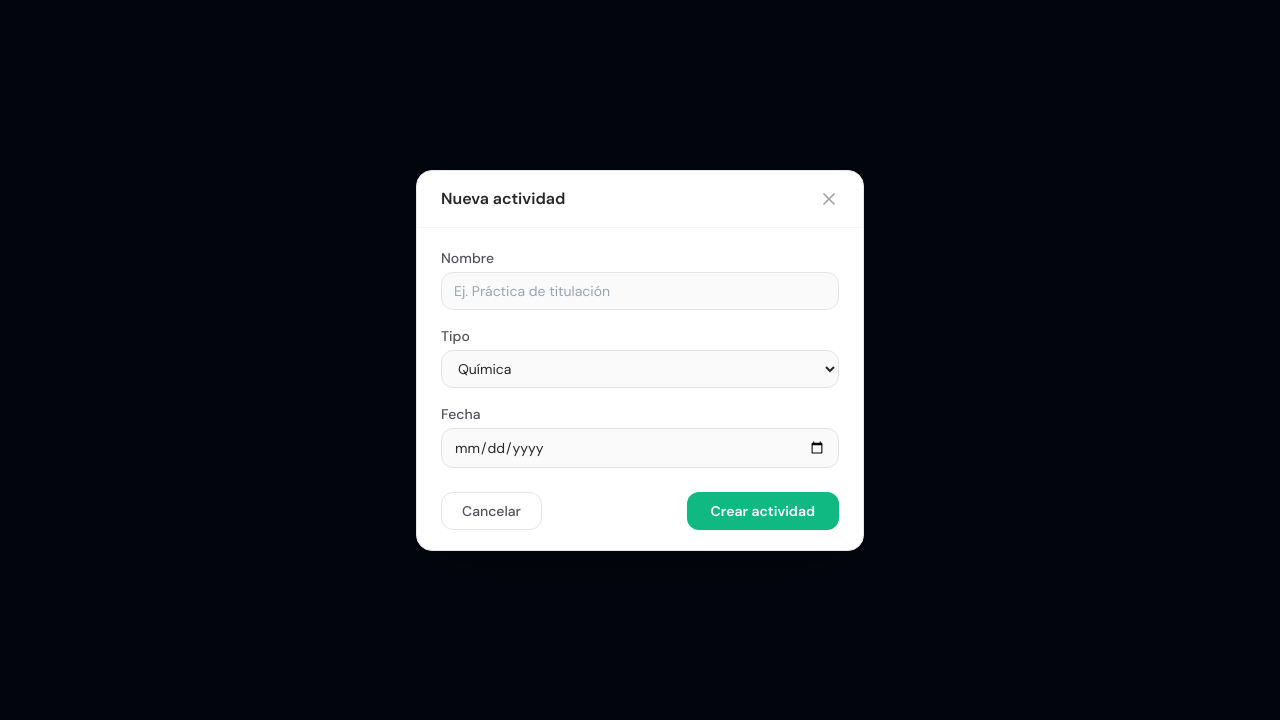
Test: FormularioActividad Component › escribir en un campo con error lo limpia
Click the button "Crear actividad" at point(763, 510), box [687,492,839,530]
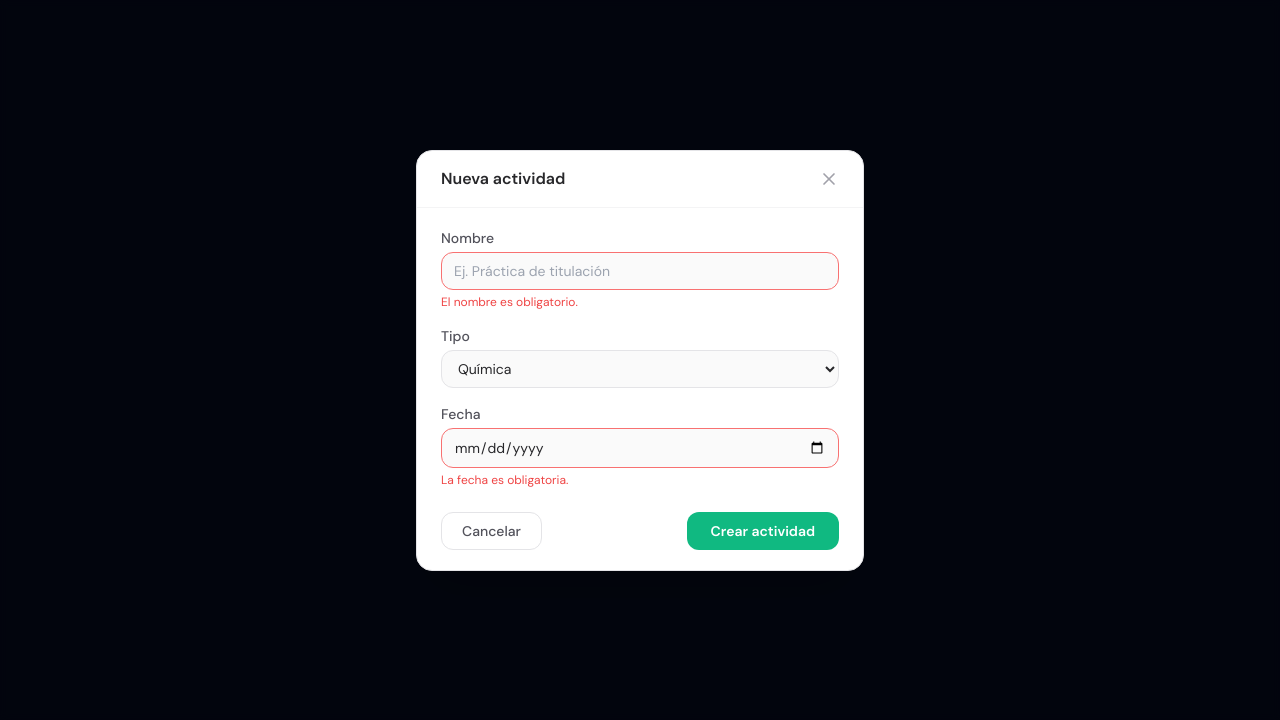
Expected: the text "El nombre es obligatorio." is shown, [441,294,578,310]
Type "Nueva" into the field with placeholder "Ej. Práctica de titulación" at point(640, 270), box [441,252,839,290]
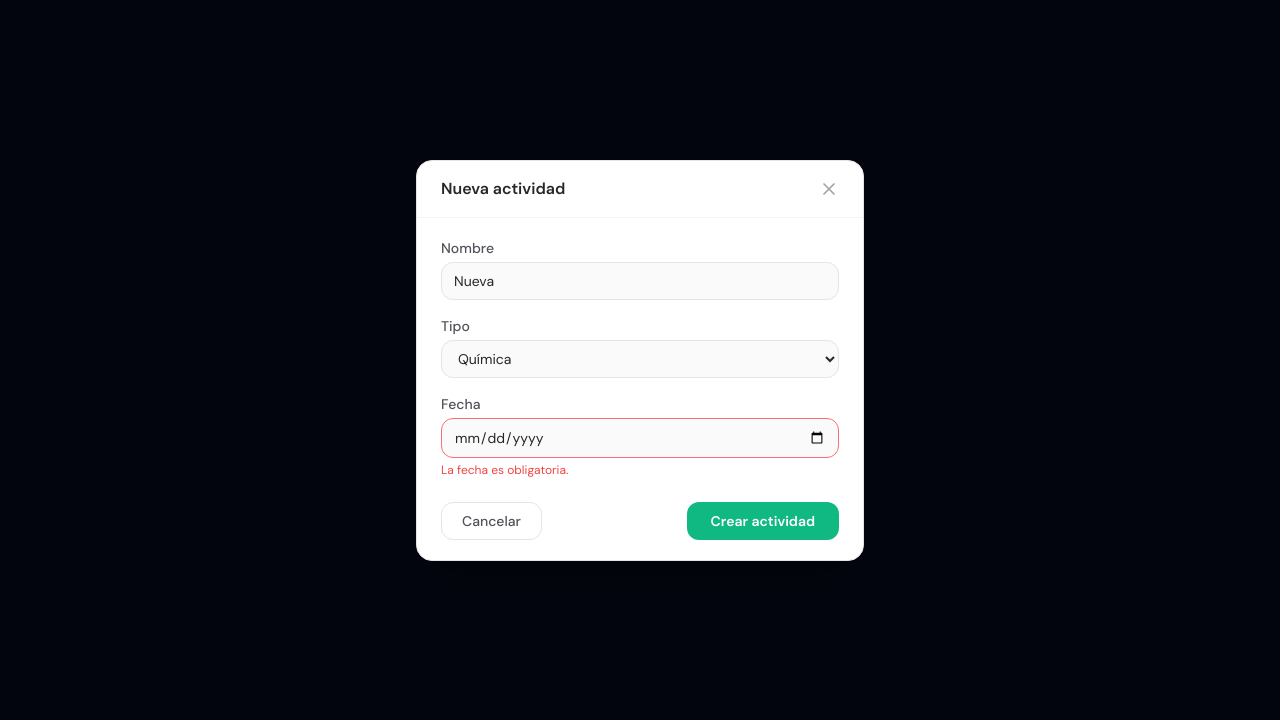
Expected: the text "El nombre es obligatorio." is gone
